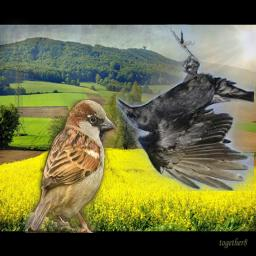Crow: (116, 24, 254, 191)
Sparrow: (25, 99, 116, 233)
